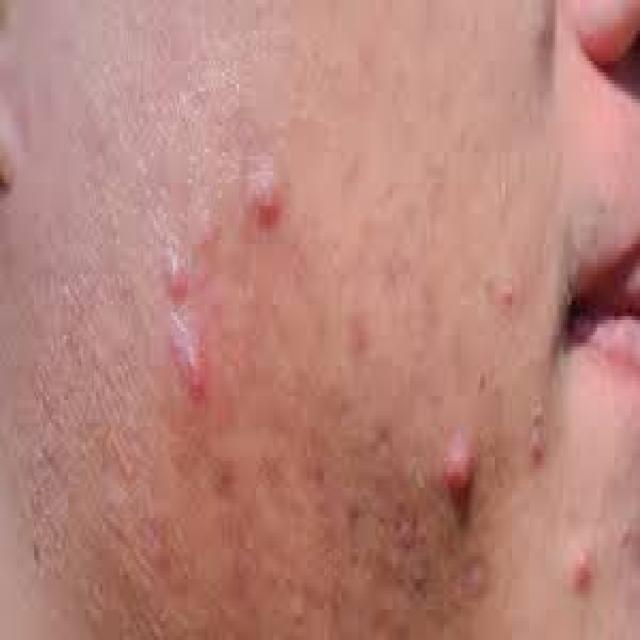Acne: (166, 310, 210, 408), (440, 432, 478, 504), (250, 170, 286, 234), (448, 559, 488, 609), (570, 542, 598, 600), (163, 247, 188, 307), (394, 513, 420, 553), (528, 426, 550, 469)
